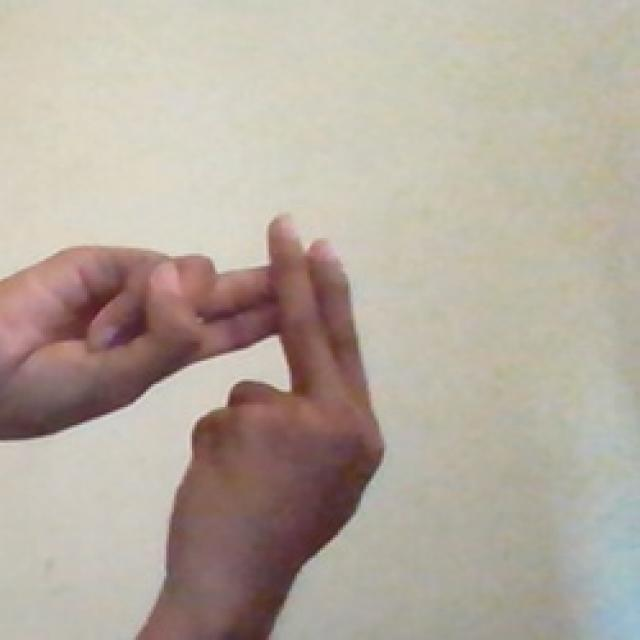Alphabet-F: (14, 197, 403, 588)
